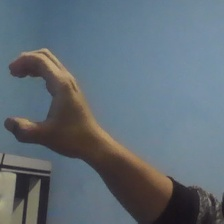C: (3, 45, 93, 168)
